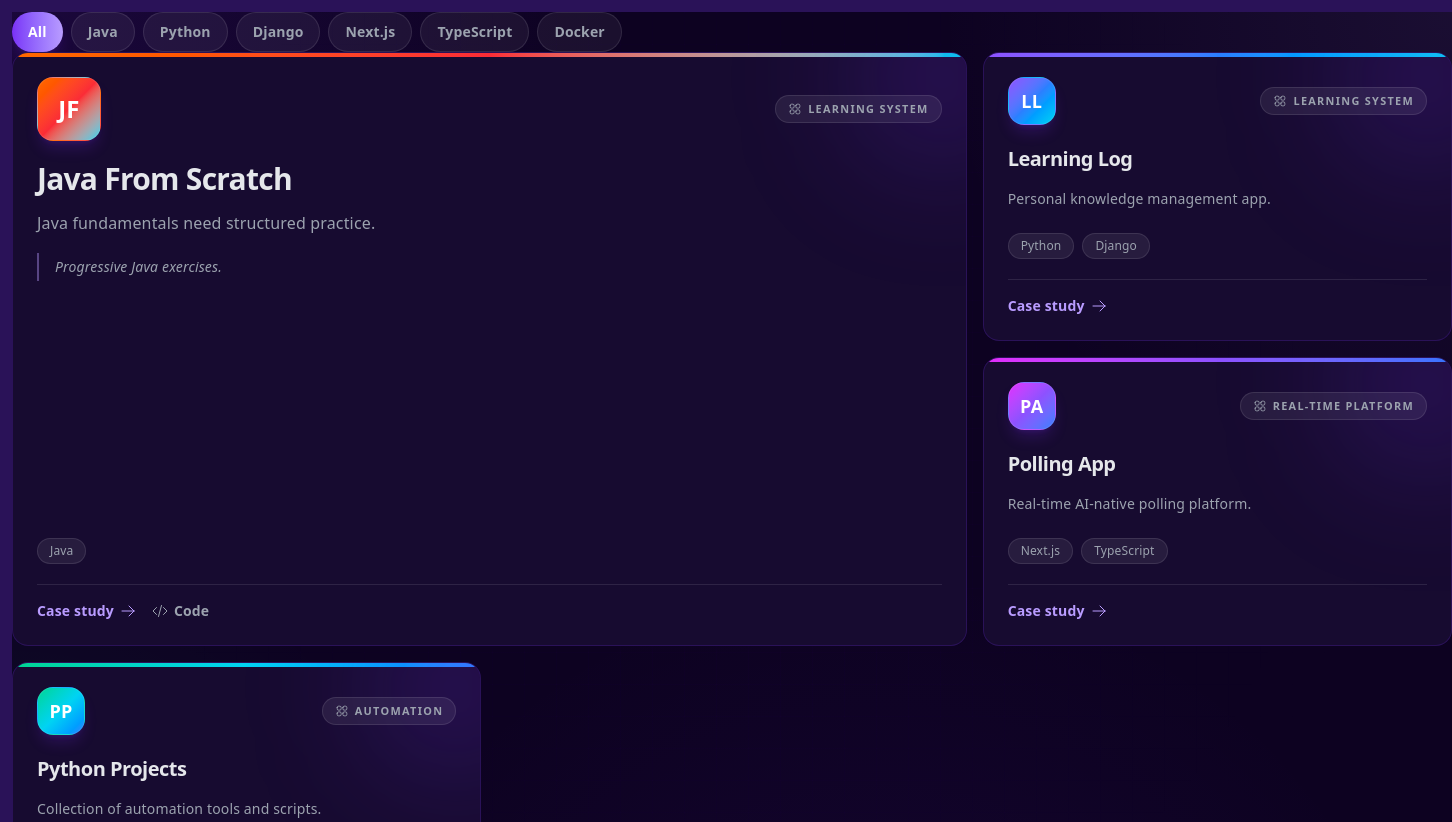
Scenario: ProjectsPage › filters projects when tech filter is clicked
Note: Click on Python filter
Click the button "Python".
click(185, 32)  # box [143, 12, 228, 52]
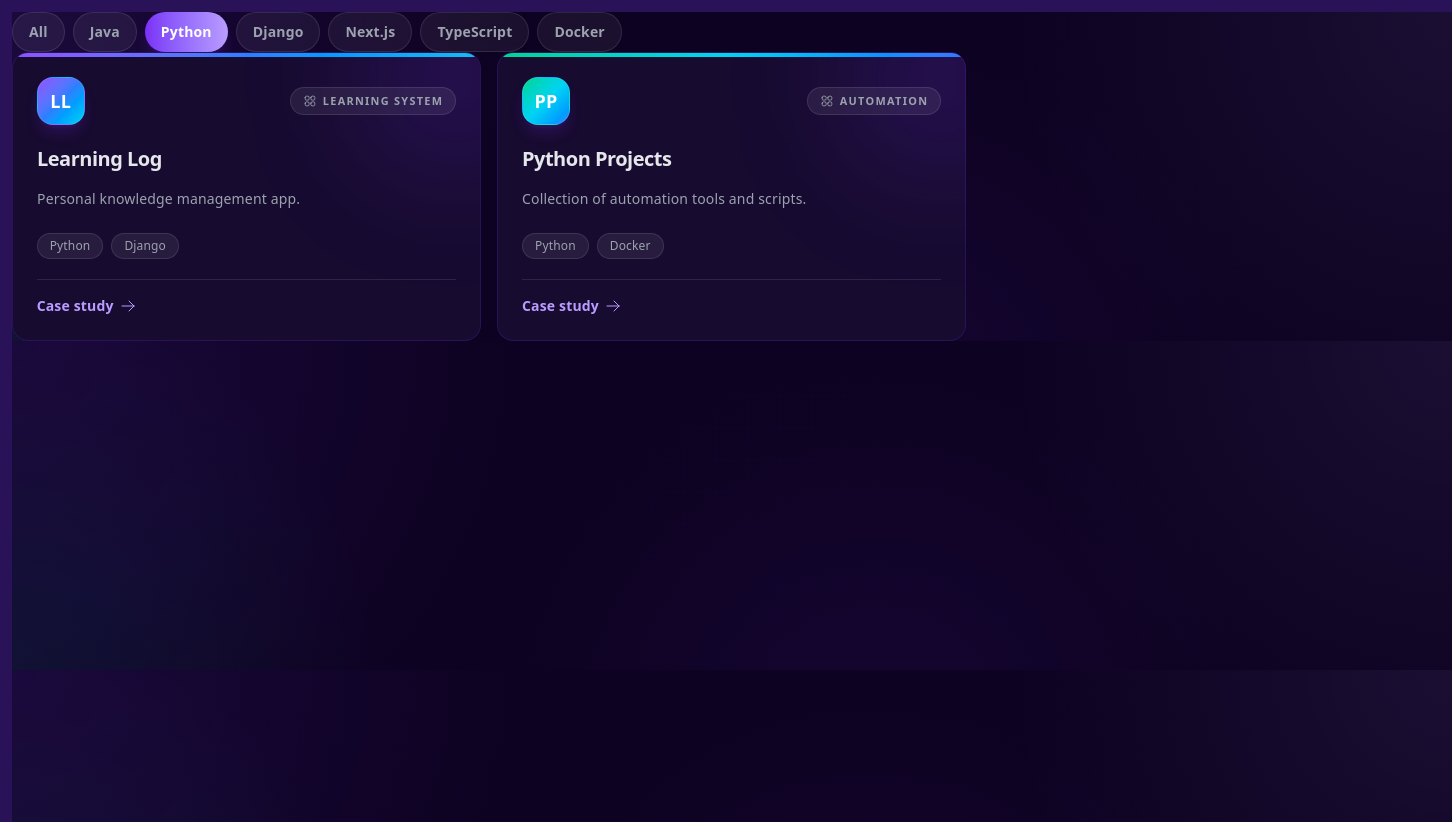
expect the heading "Learning Log" is shown: met, box [37, 145, 162, 172]
expect the link "Java From Scratch" is gone: met
expect the link "Polling App" is gone: met
Note: Click on All filter to reset
Click the button "All".
click(38, 32)  # box [12, 12, 65, 52]
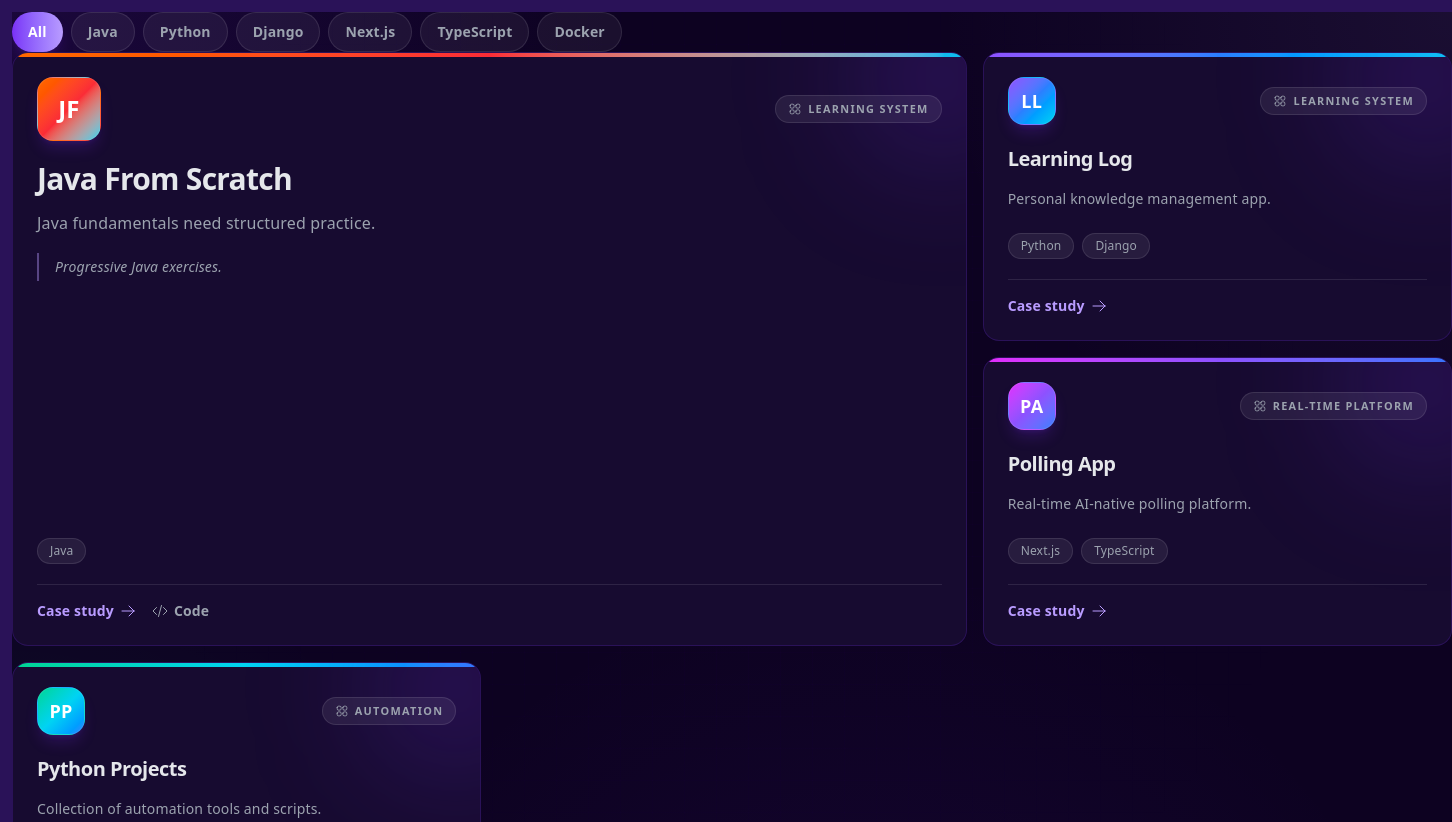
expect the heading "Learning Log" is shown: met, box [1008, 145, 1133, 172]
expect the heading "Polling App" is shown: met, box [1008, 450, 1116, 477]
expect the heading "Java From Scratch" is shown: met, box [37, 158, 292, 199]
